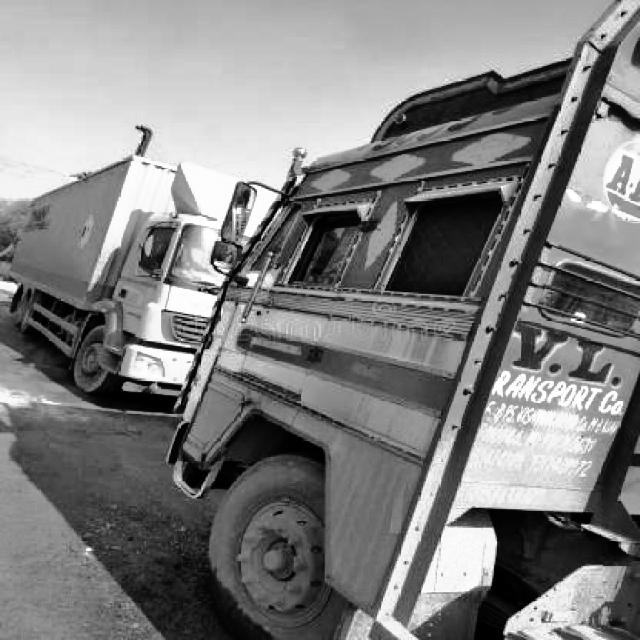HCV: (261, 131, 640, 640), (22, 142, 266, 393)
